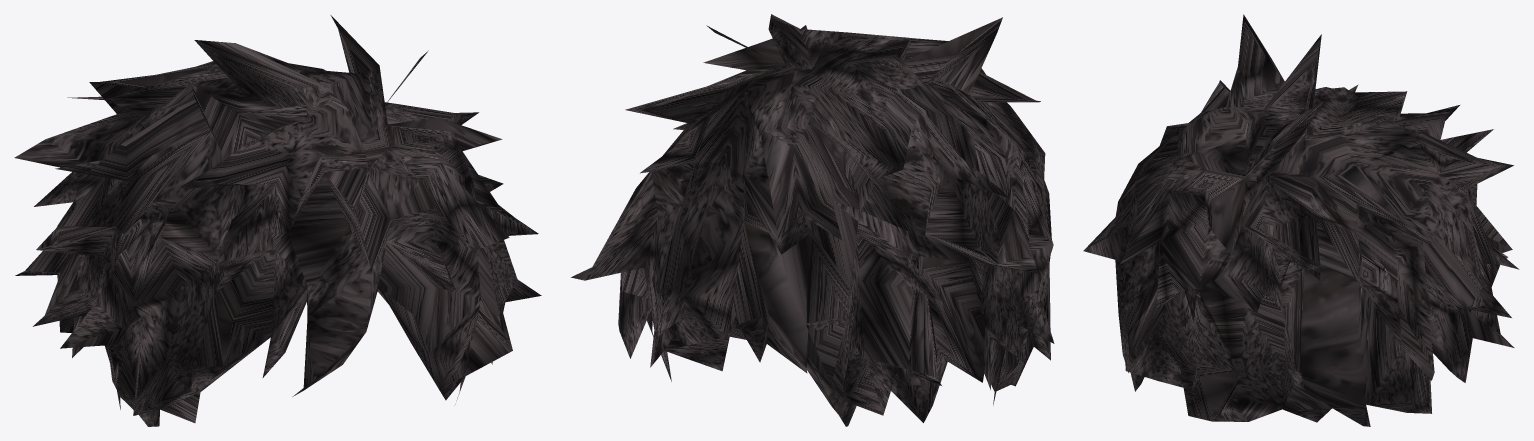
The model's file is hair_m1.glb.
3 renders of one model, left to right at view 1: azimuth 30°, elevation 25°; view 2: azimuth 150°, elevation 25°; view 3: azimuth 270°, elevation 25°, orthographic. The views are drawn at different scales.
Parts seen in each view (by area): view 1: hair_m1; view 2: hair_m1; view 3: hair_m1.
Boxes of the visible parts, left/top/right/bottom form: hair_m1: left=14, top=15, right=541, bottom=426; hair_m1: left=571, top=14, right=1054, bottom=426; hair_m1: left=1083, top=14, right=1519, bottom=426.
Bounding box in the file's own units: 0.9898 × 0.7742 × 0.9923.
1 material, 1 textured.
